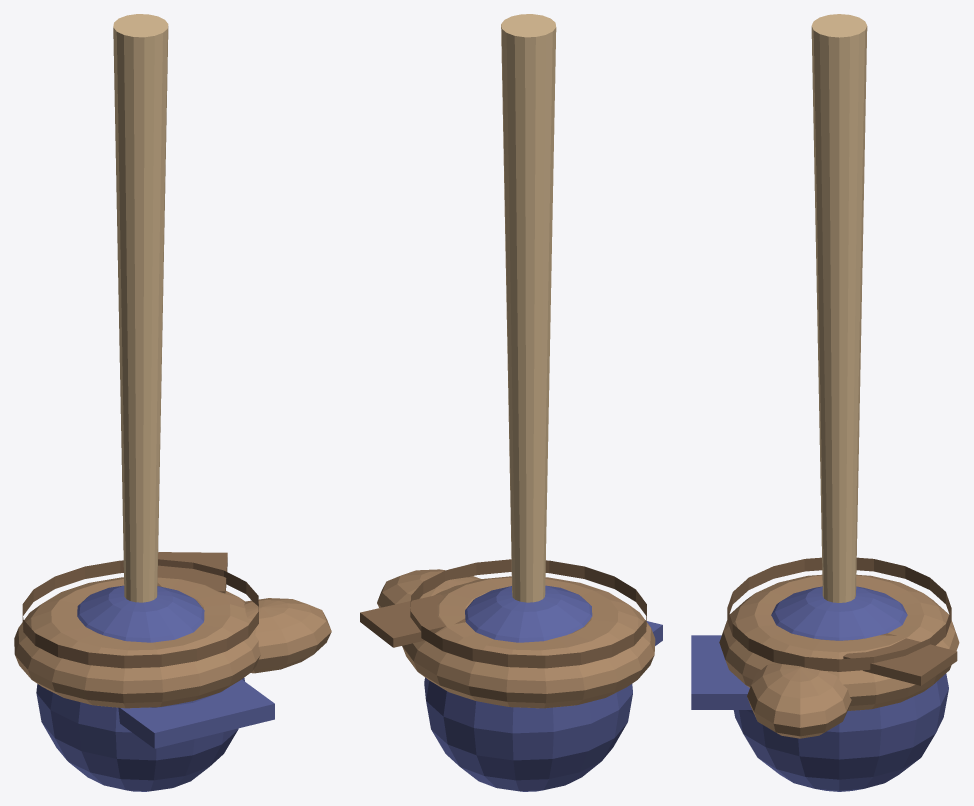
The model's file is props.glb.
3 renders of one model, left to right at view 1: azimuth 30°, elevation 25°; view 2: azimuth 150°, elevation 25°; view 3: azimuth 270°, elevation 25°, orthographic.
Parts seen in each view (by area): view 1: prop_mitt, prop_bat, prop_helmet; view 2: prop_mitt, prop_bat, prop_helmet; view 3: prop_bat, prop_mitt, prop_helmet.
Boxes of the visible parts, x1,y1,x2,y2 form: prop_mitt: (14,552,331,708); prop_bat: (113,14,168,602); prop_helmet: (36,585,274,791); prop_mitt: (360,559,655,708); prop_bat: (501,14,556,602); prop_helmet: (424,585,662,791); prop_bat: (811,14,867,602); prop_mitt: (719,557,959,738); prop_helmet: (691,586,948,791).
Size of the model in its own units: 0.3714 by 0.96 by 0.308.
